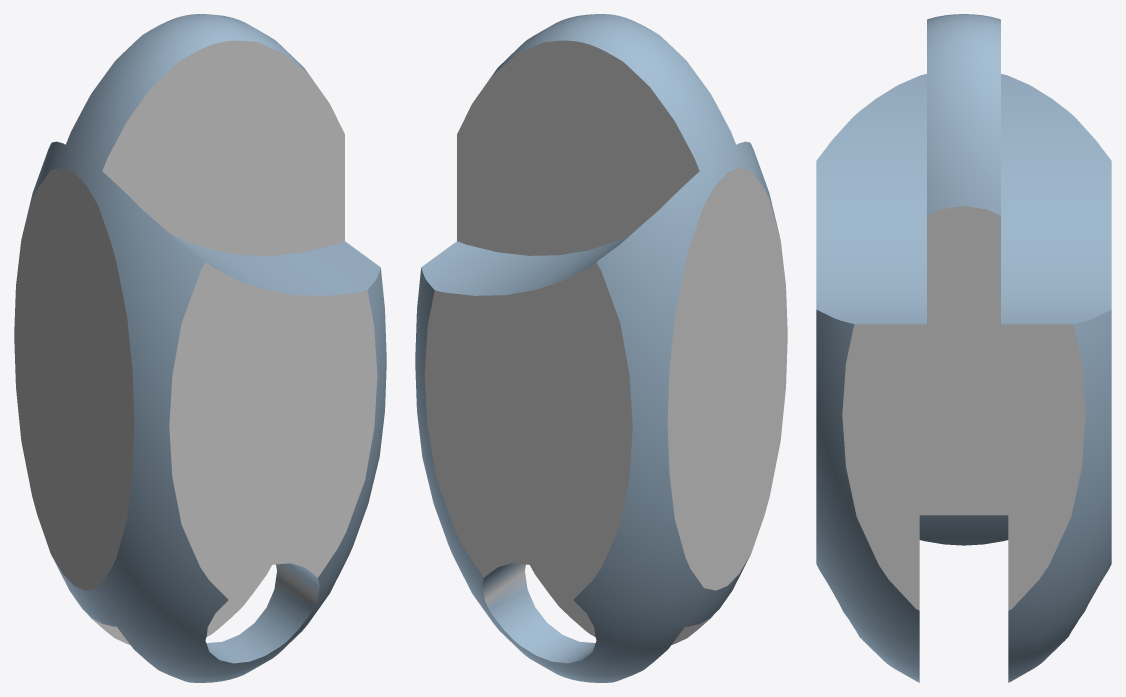
Rendered from phalange5x3.glb.
3 views of the same model, side by side, from view 1: azimuth 30°, elevation 25°; view 2: azimuth 150°, elevation 25°; view 3: azimuth 270°, elevation 25° (orthographic).
Size of the model in its own units: 0.3 by 0.7288 by 0.3.
